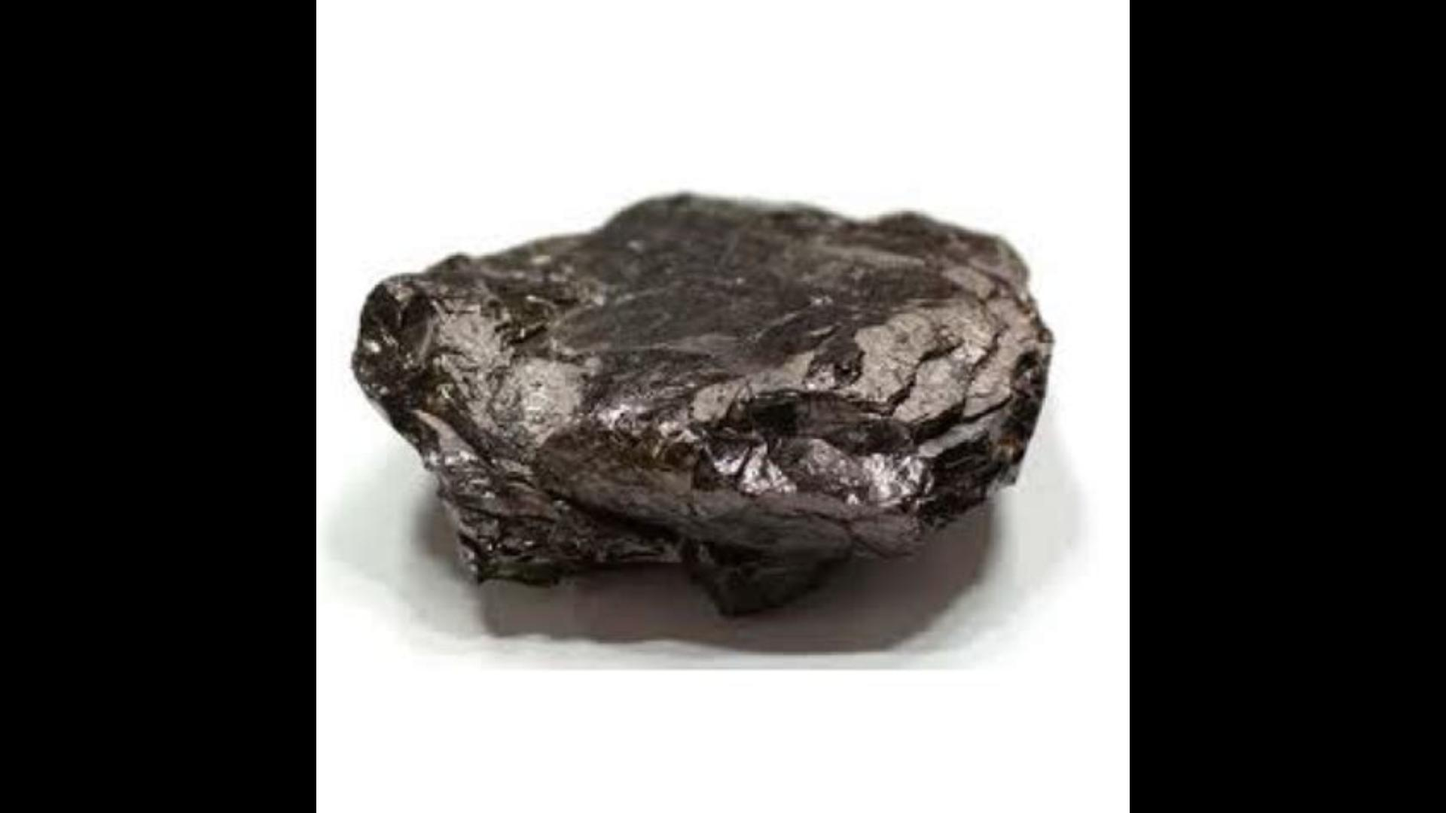rock: (352, 196, 1051, 612), (424, 671, 998, 714)
